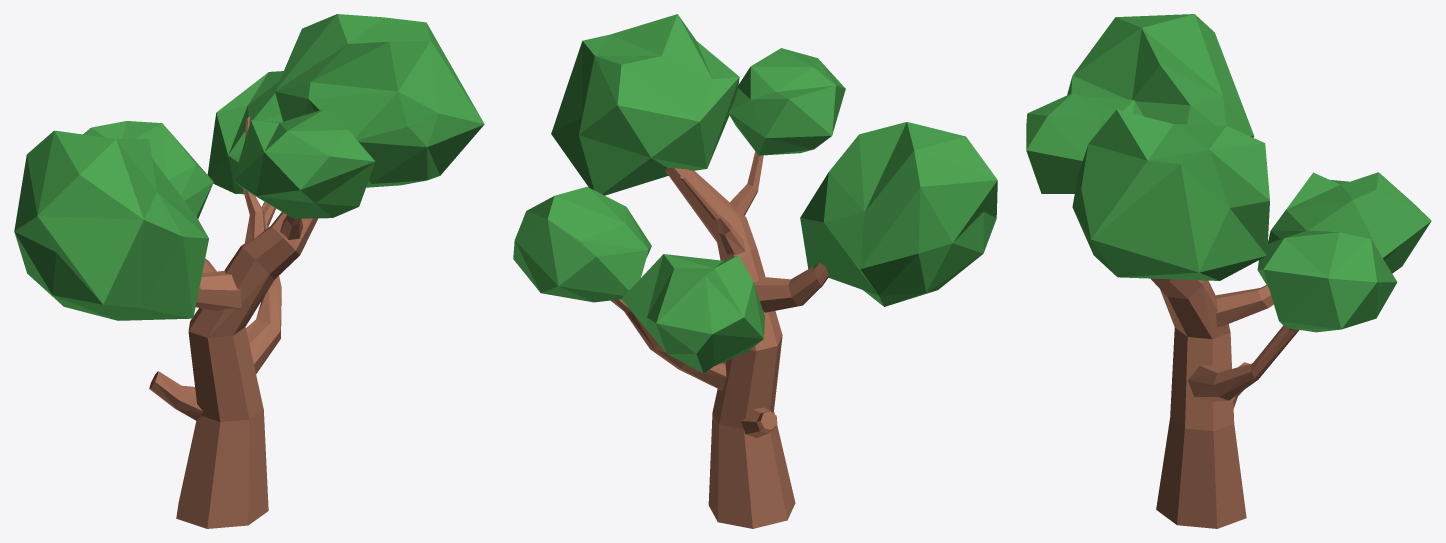
The model's file is bush.obj.
The picture shows the model from 3 angles, left to right: view 1: azimuth 30°, elevation 25°; view 2: azimuth 150°, elevation 25°; view 3: azimuth 270°, elevation 25°; orthographic projection. The views are drawn at different scales.
Size of the model in its own units: 4.34 by 4.42 by 3.53.
